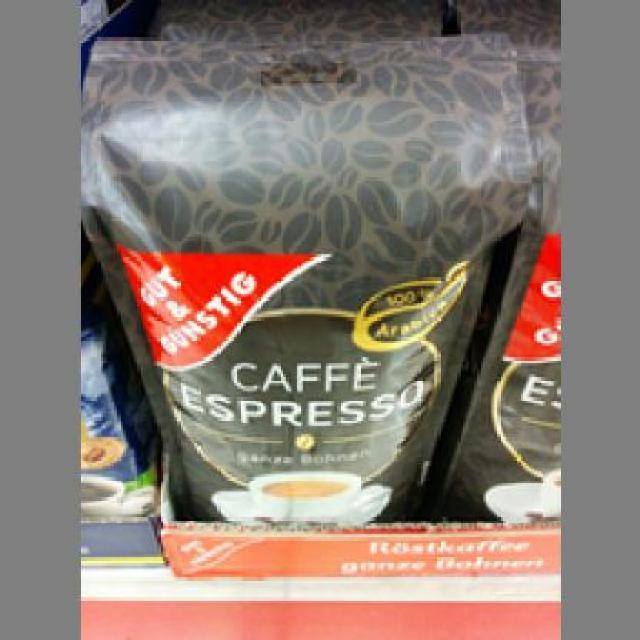Coffee: (80, 31, 529, 518)
